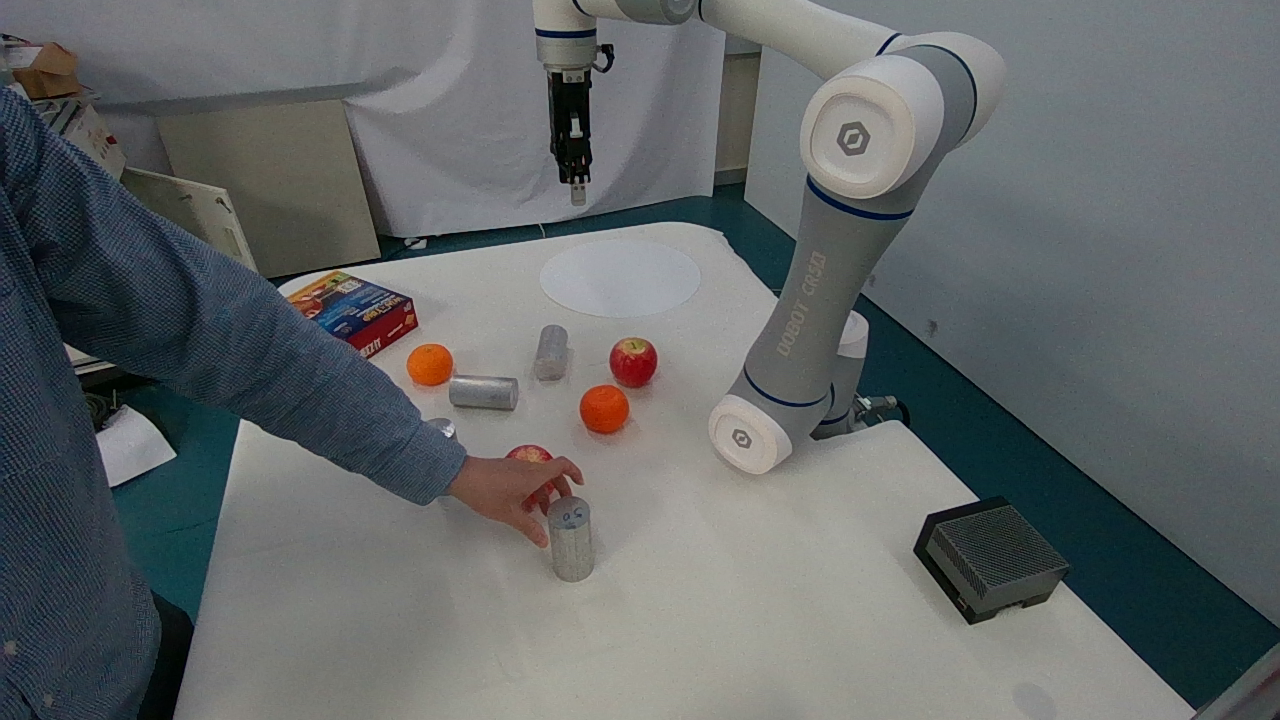apple: (556, 368, 641, 448), (392, 341, 466, 392)
metal rod: (597, 327, 666, 386)
orange: (545, 483, 603, 587), (443, 362, 526, 424), (519, 307, 578, 385)
